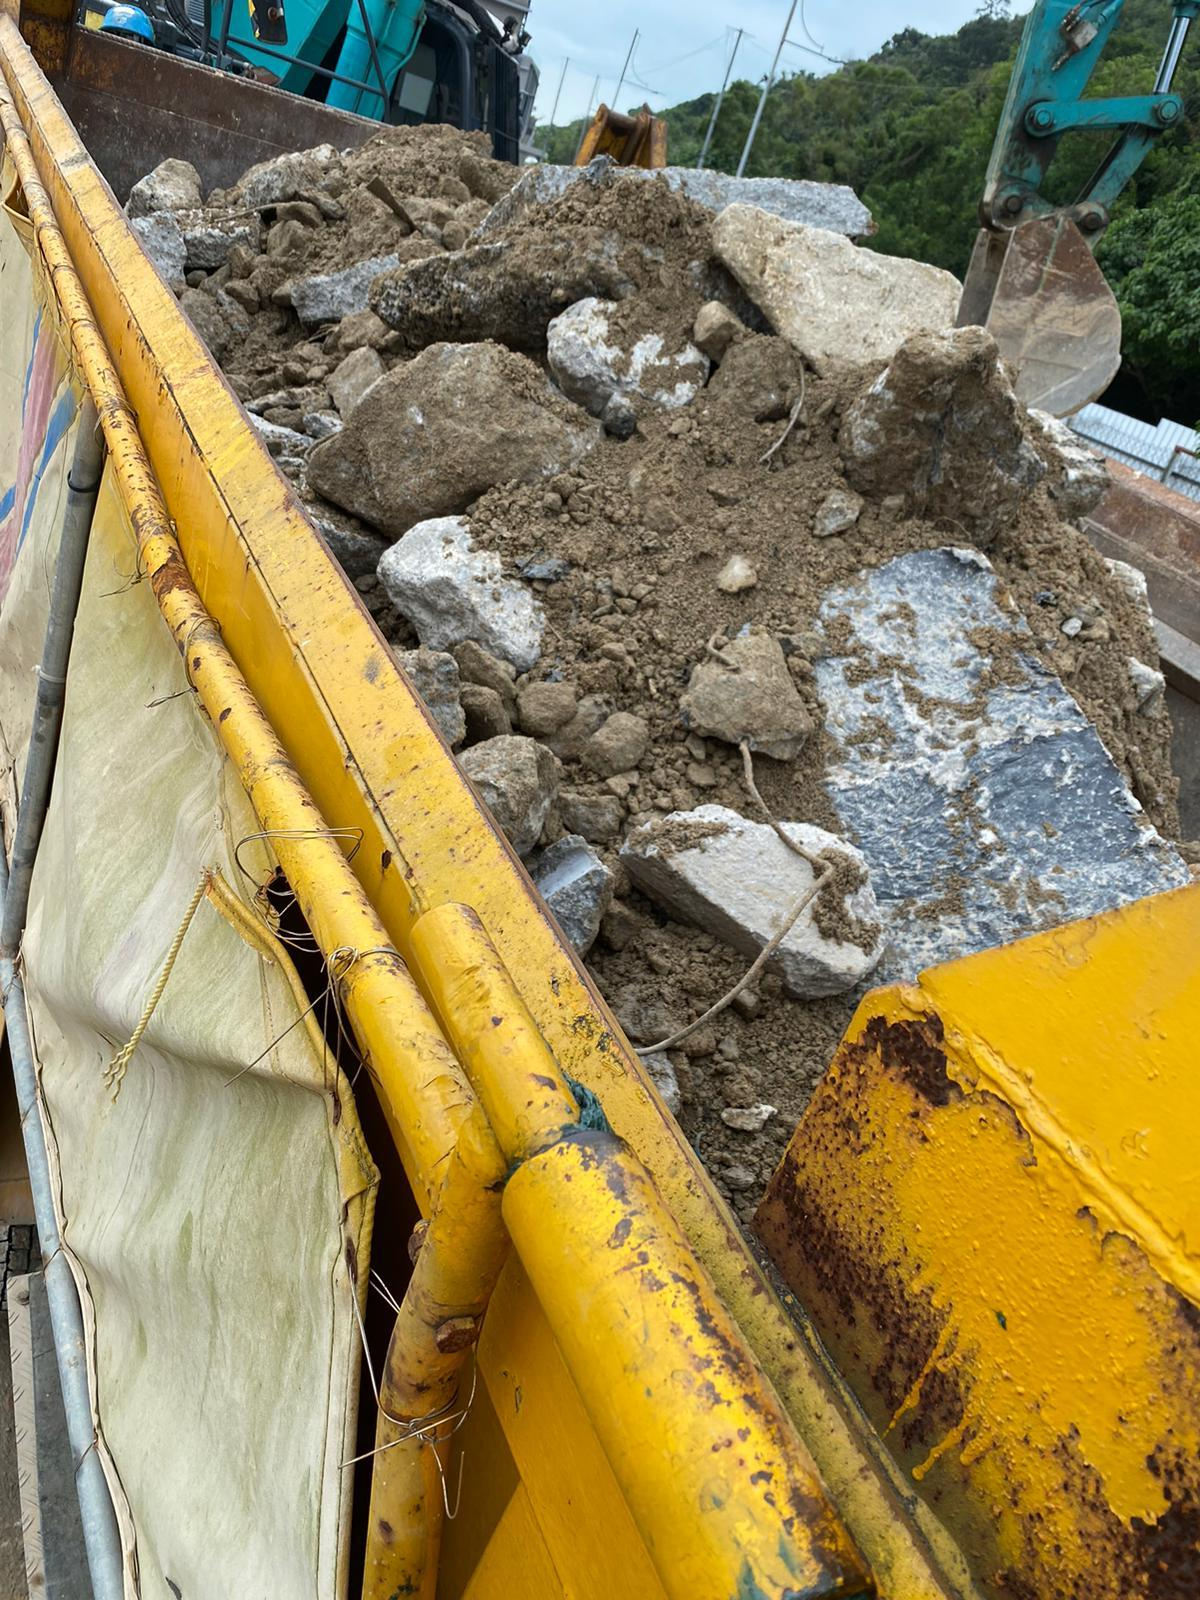stone: (302, 337, 603, 538), (617, 800, 886, 999), (708, 199, 964, 381), (836, 321, 1048, 530), (374, 512, 546, 672), (544, 292, 710, 433), (678, 622, 815, 761), (454, 731, 562, 855), (529, 832, 614, 958), (580, 709, 649, 775)
